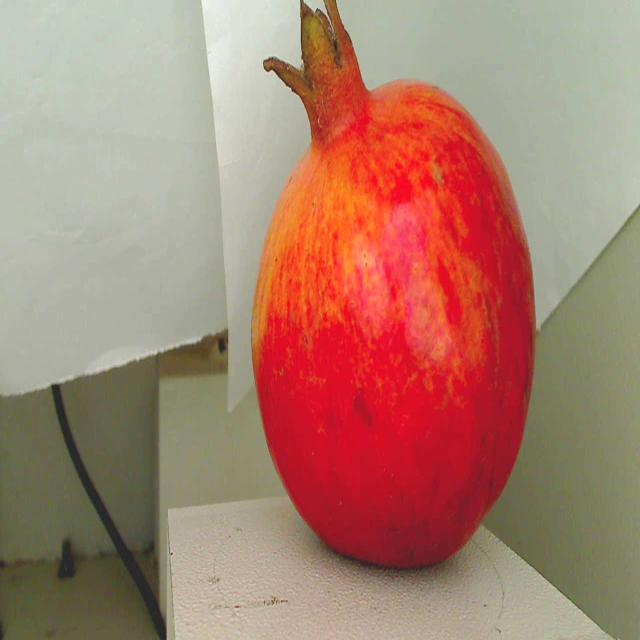pomegranate: (236, 0, 548, 588)
